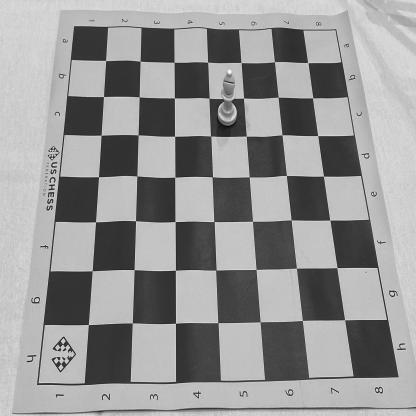bishop: (218, 69, 238, 127)
